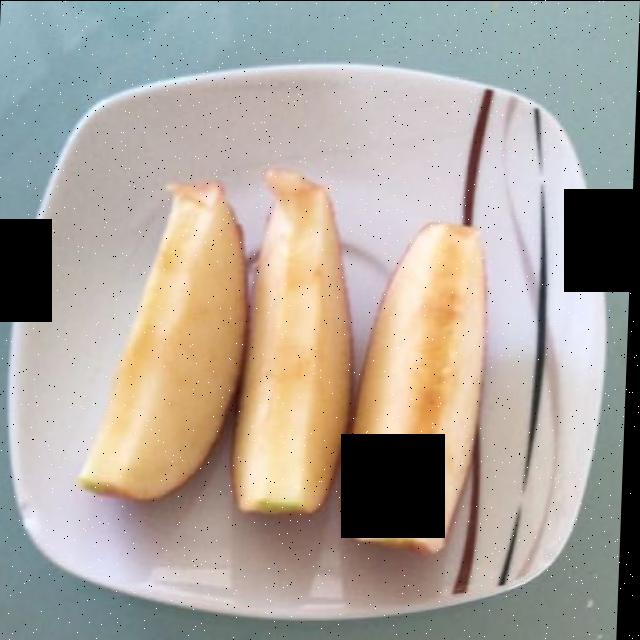apple: (95, 173, 484, 543)
